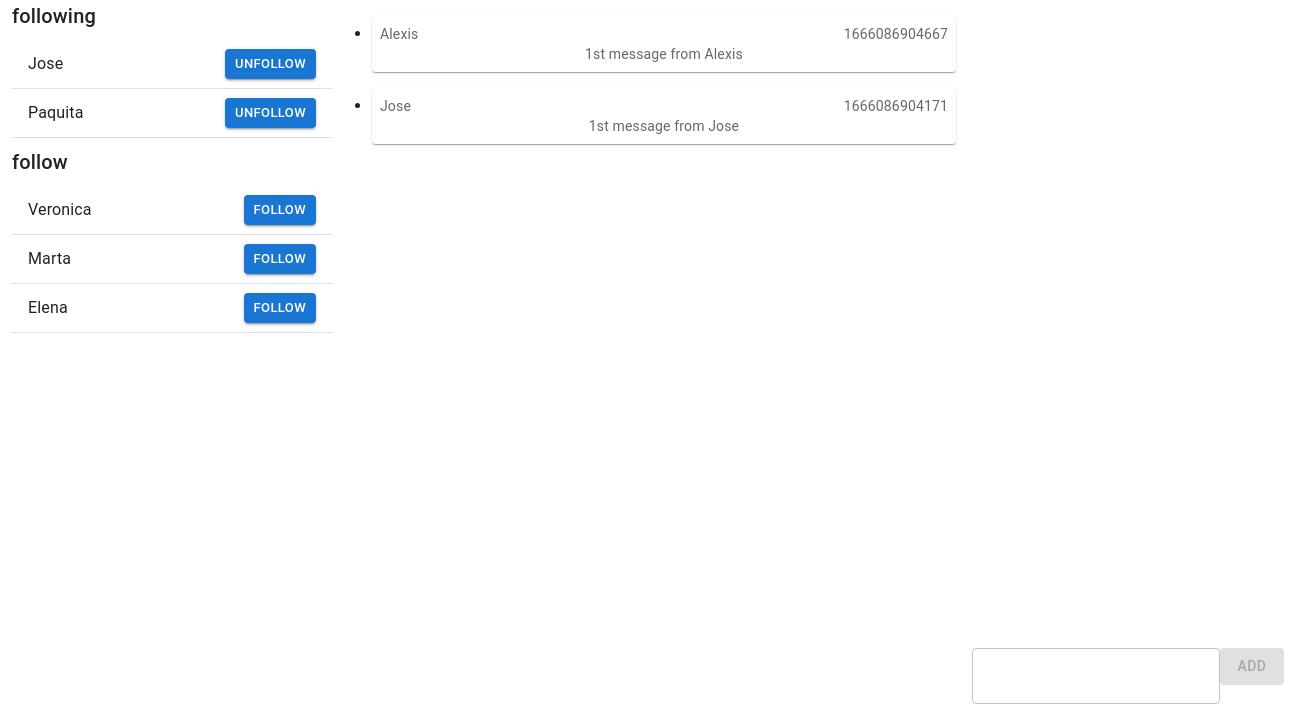
Test: dashboard › when a new user is followed › should come up in following box
Expected: the text "Marta" is shown, [28, 249, 71, 268]
Click the button with aria-label "follow-Marta": (280, 259) [244, 244, 316, 274]
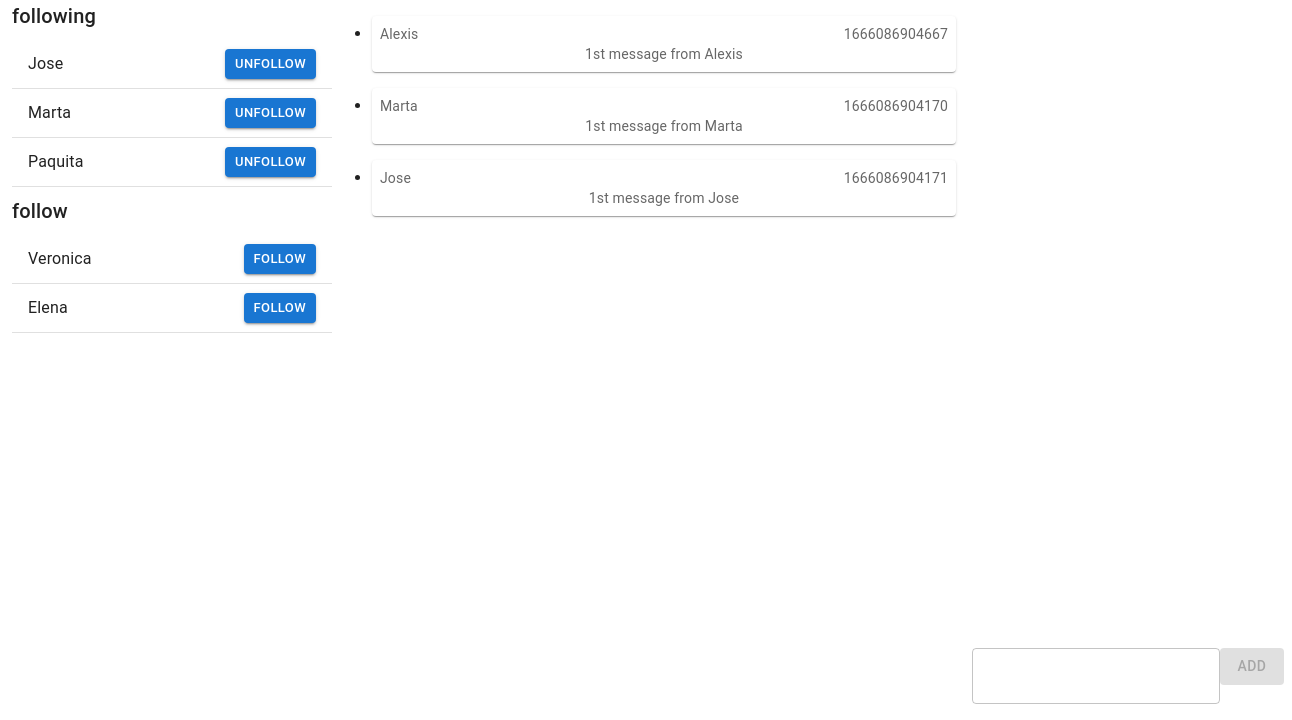
Expected: the text "Marta" below "following" is shown, [28, 103, 71, 122]
